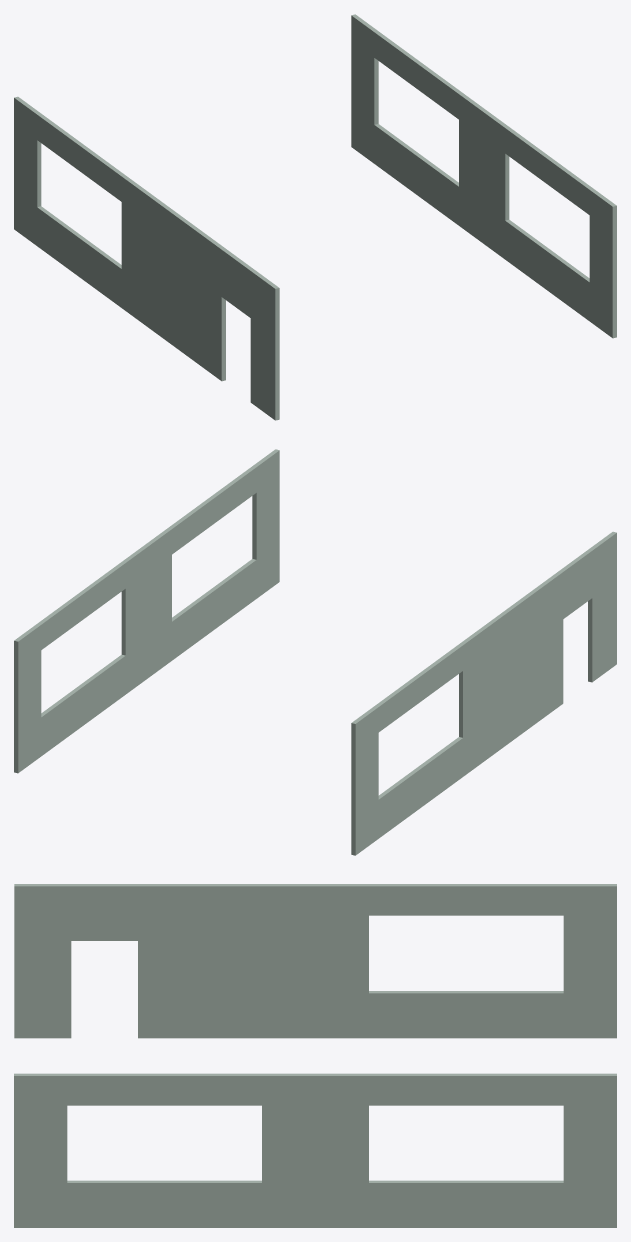
Rendered from SideWall.fbx.
The picture shows the model from 3 angles, top to bottom: view 1: azimuth 30°, elevation 25°; view 2: azimuth 150°, elevation 25°; view 3: azimuth 270°, elevation 25°; orthographic projection. The views are drawn at different scales.
Visible parts, largest first — view 1: SideWall; view 2: SideWall; view 3: SideWall.
Boxes of the visible parts, left/top/right/bottom form: SideWall: left=14, top=14, right=616, bottom=420; SideWall: left=14, top=449, right=616, bottom=855; SideWall: left=14, top=884, right=616, bottom=1227.
Size of the model in its own units: 678 by 250 by 900.
1 material, 1 textured.
